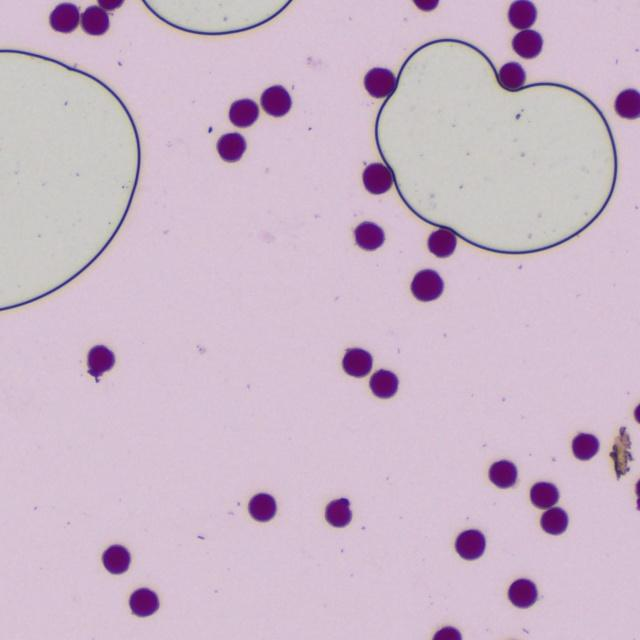viable: (412, 270, 443, 301), (364, 67, 395, 97), (87, 345, 114, 379), (261, 85, 290, 116), (363, 163, 392, 194), (342, 348, 372, 377), (354, 221, 383, 250), (50, 3, 79, 32), (456, 530, 485, 559), (369, 369, 398, 398), (508, 0, 536, 29), (102, 545, 130, 574), (428, 229, 456, 257), (218, 132, 245, 161), (513, 30, 541, 57), (489, 459, 516, 487), (229, 99, 257, 126), (509, 579, 536, 607), (130, 589, 158, 616), (82, 6, 108, 35), (541, 507, 568, 534), (249, 494, 275, 521), (531, 482, 558, 508), (325, 499, 351, 526), (499, 62, 525, 89), (572, 433, 598, 459), (615, 89, 639, 116), (432, 626, 461, 639), (98, 0, 123, 10), (413, 0, 438, 10), (634, 404, 639, 423)
